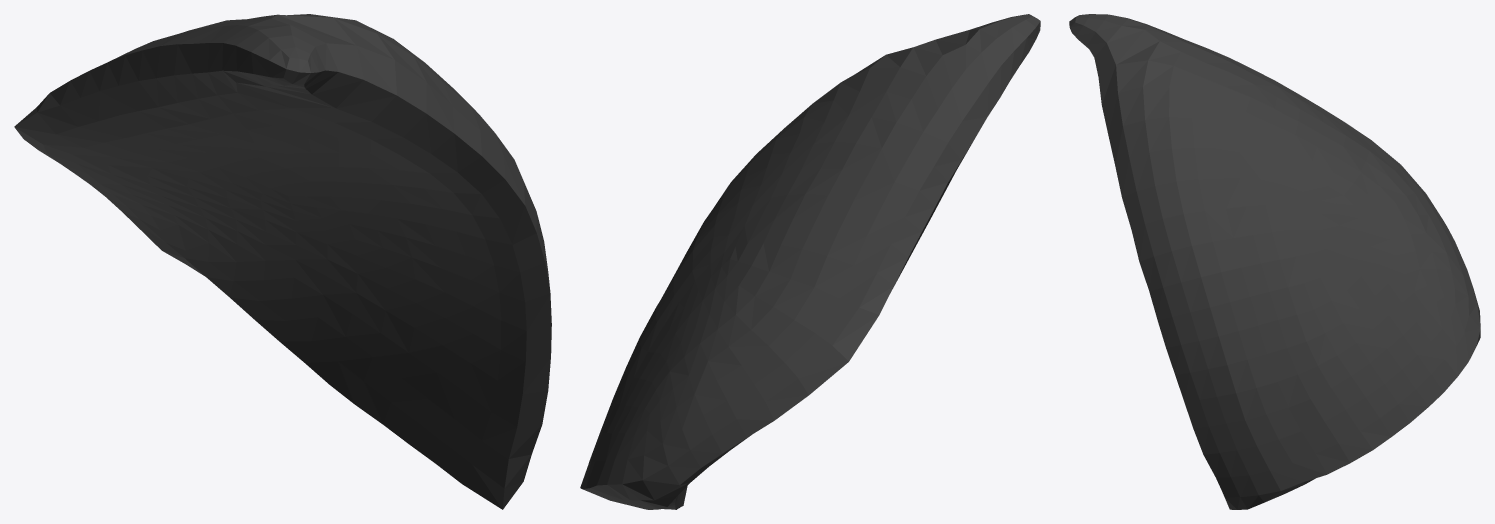
Rendered from Cleidobrachialis_cerv.glb.
3 views of the same model, side by side, from view 1: azimuth 30°, elevation 25°; view 2: azimuth 150°, elevation 25°; view 3: azimuth 270°, elevation 25° (orthographic). The views are drawn at different scales.
Parts seen in each view (by area): view 1: Cleidobrachialis_cerv; view 2: Cleidobrachialis_cerv; view 3: Cleidobrachialis_cerv.
Part boxes in pixels (<box>): Cleidobrachialis_cerv: <box>14,14,551,509</box>; Cleidobrachialis_cerv: <box>580,14,1040,509</box>; Cleidobrachialis_cerv: <box>1069,14,1480,509</box>.
Bounding box in the file's own units: 0.7626 × 1.13 × 1.07.
1 material, 1 textured.
